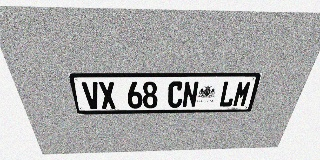6: (126, 81, 143, 109)
8: (142, 81, 158, 108)
C: (167, 81, 184, 108)
L: (218, 81, 238, 107)
M: (232, 81, 252, 107)
N: (182, 81, 199, 108)
V: (81, 82, 102, 109)
X: (98, 82, 117, 109)
